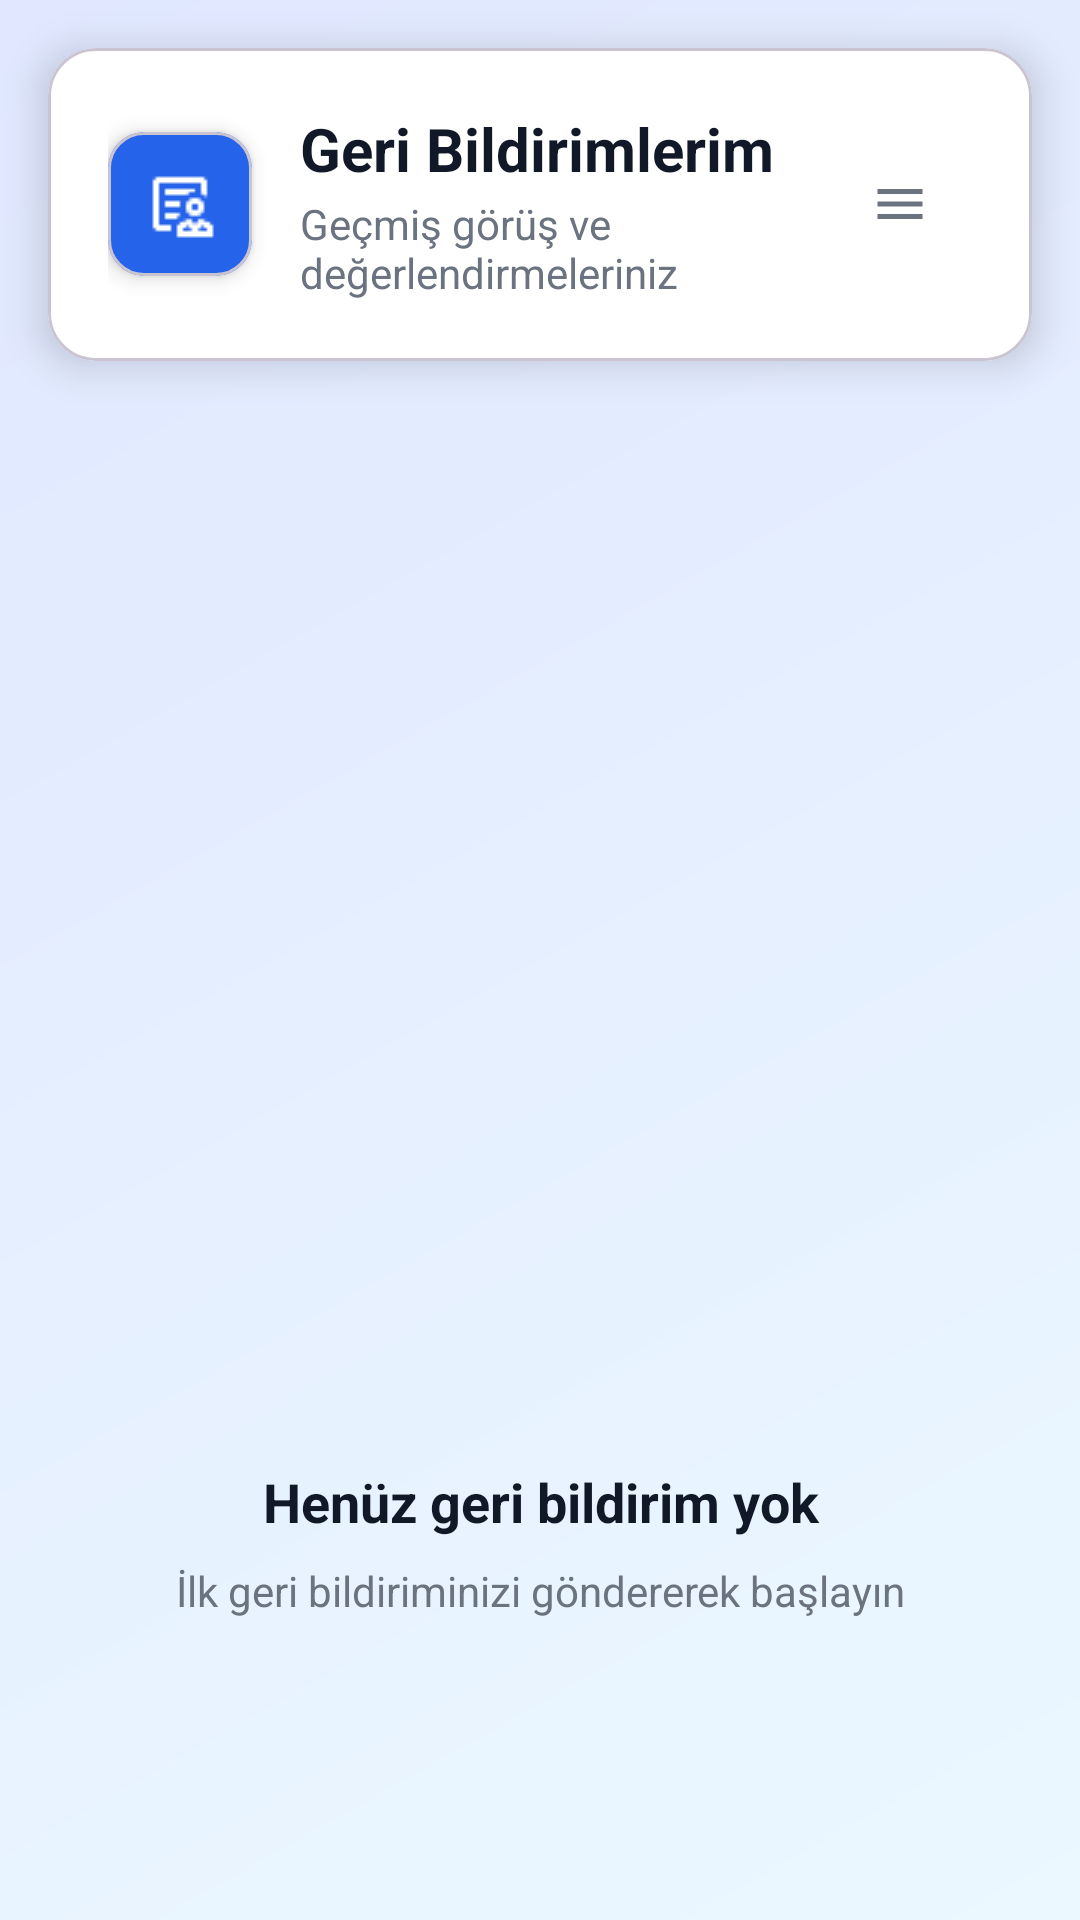

Where to tap for icons on this 1080px x 1920px app screen, as [x,y]:
menu: [900,204]
